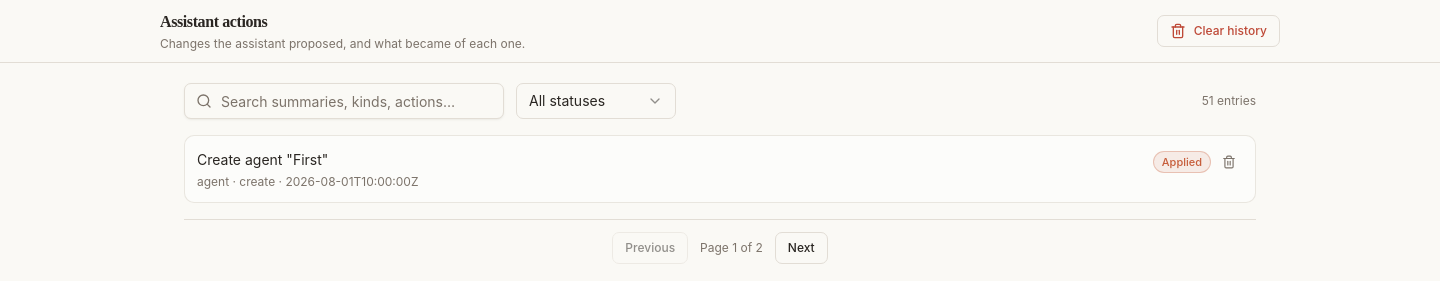
Test case: AppActionsPage › moves between history pages
Check: the text "Create agent \"First\"" is shown, box [197,151,328,168]
Click the button "Next" at coordinates (801, 248), box [775,232,828,264]
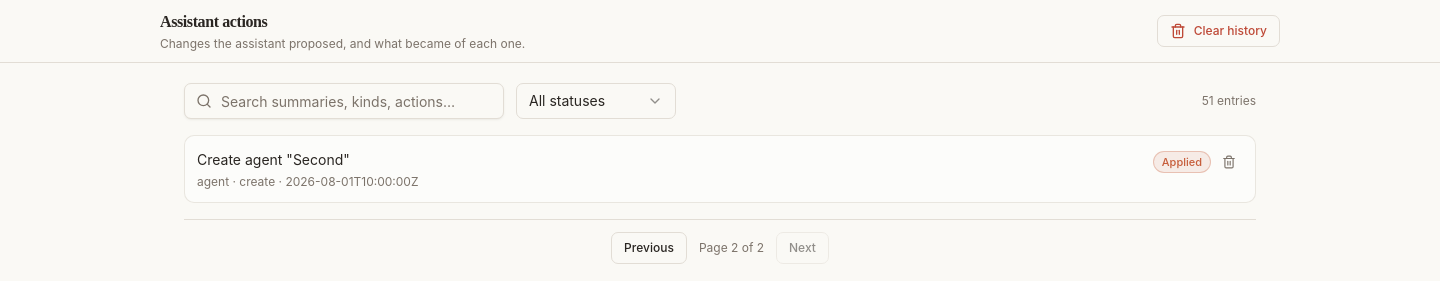
Check: the text "Create agent \"Second\"" is shown, box [197,151,350,168]
Click the button "Previous" at coordinates (649, 248), box [611,232,687,264]
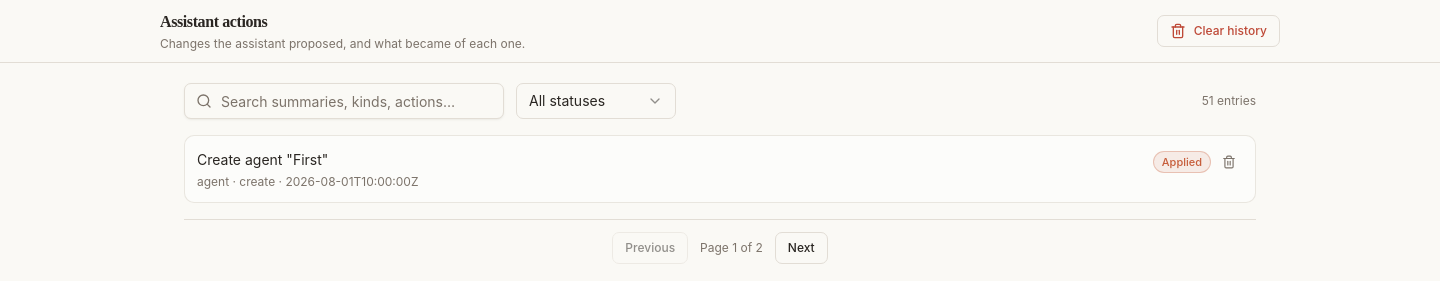
Check: the text "Create agent \"First\"" is shown, box [197,151,328,168]
